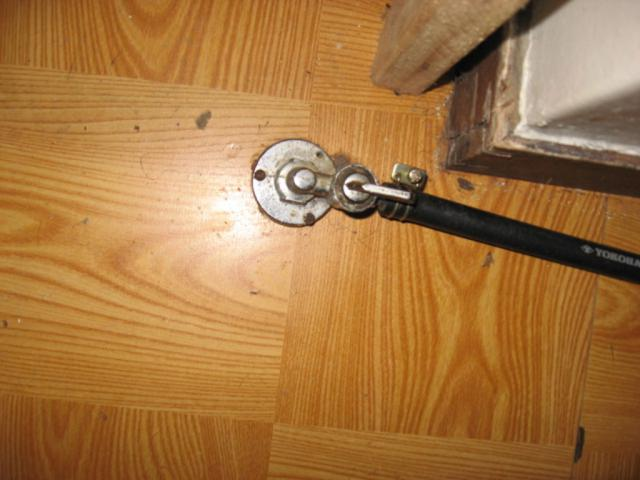Door-handle: (251, 138, 639, 284)
